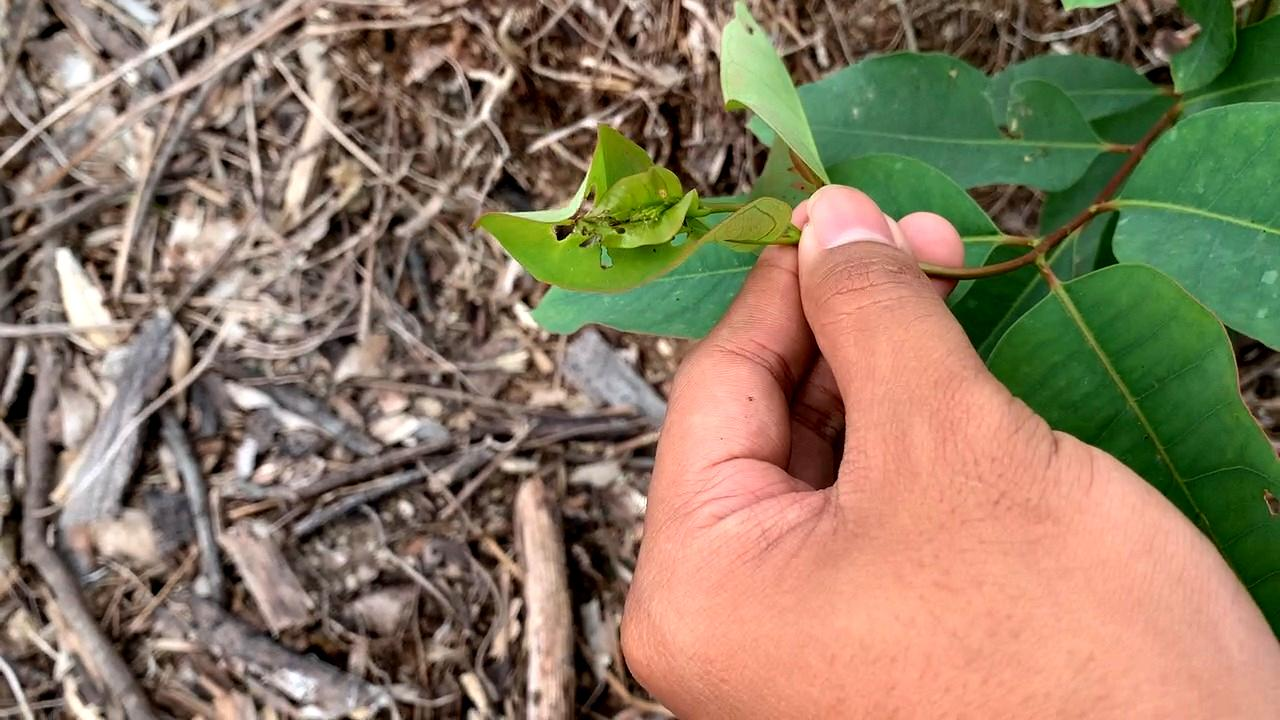Leaf Roller - Leaf: (478, 120, 807, 308)
